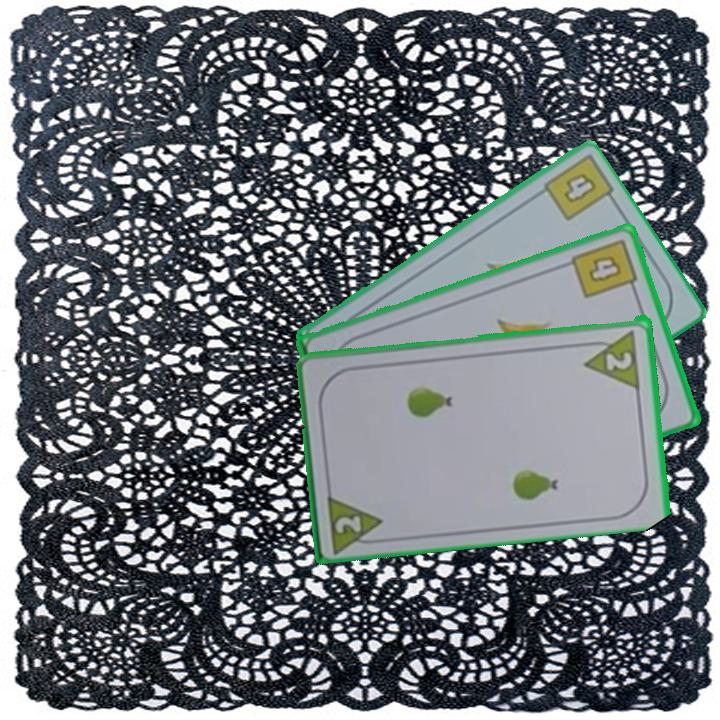2p: (323, 488, 388, 553), (579, 326, 643, 389)
4b: (567, 234, 641, 301), (560, 168, 600, 206)
